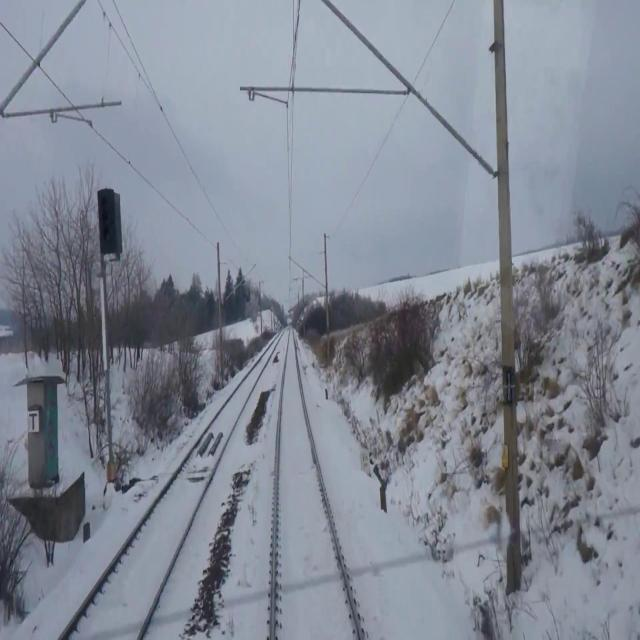rail-track: (63, 339, 277, 639), (276, 329, 359, 639)
